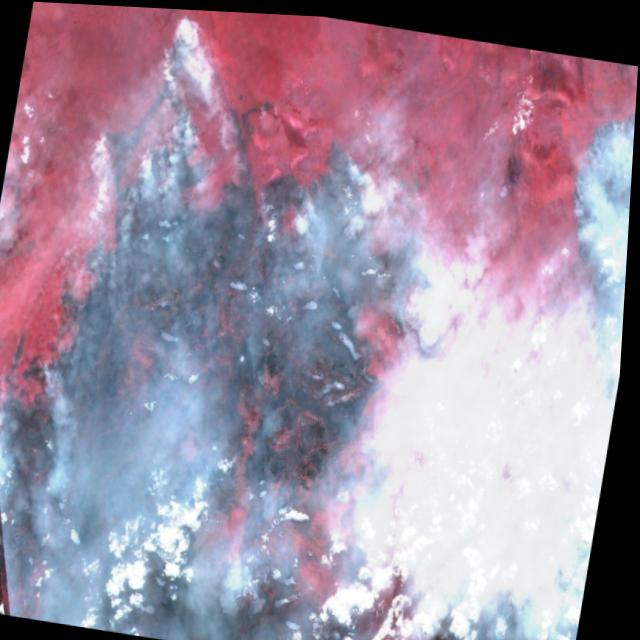fire: (149, 6, 210, 96), (83, 118, 116, 170), (174, 99, 198, 145), (345, 135, 363, 183), (142, 131, 158, 175)
